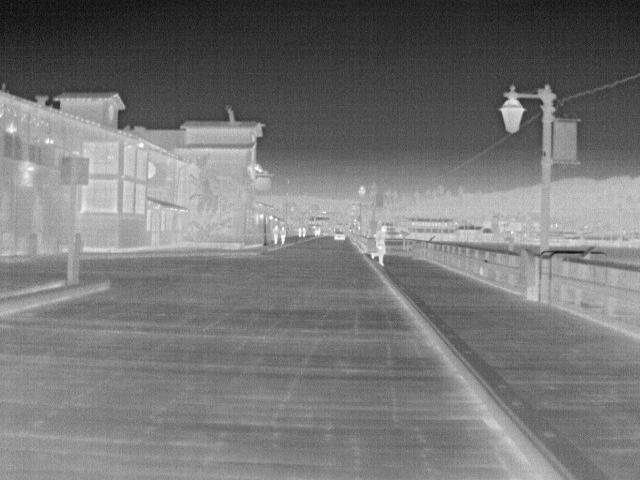car: (332, 230, 346, 241)
person: (368, 224, 388, 267), (277, 224, 288, 246), (272, 223, 281, 246), (300, 225, 308, 237), (296, 225, 303, 238)
